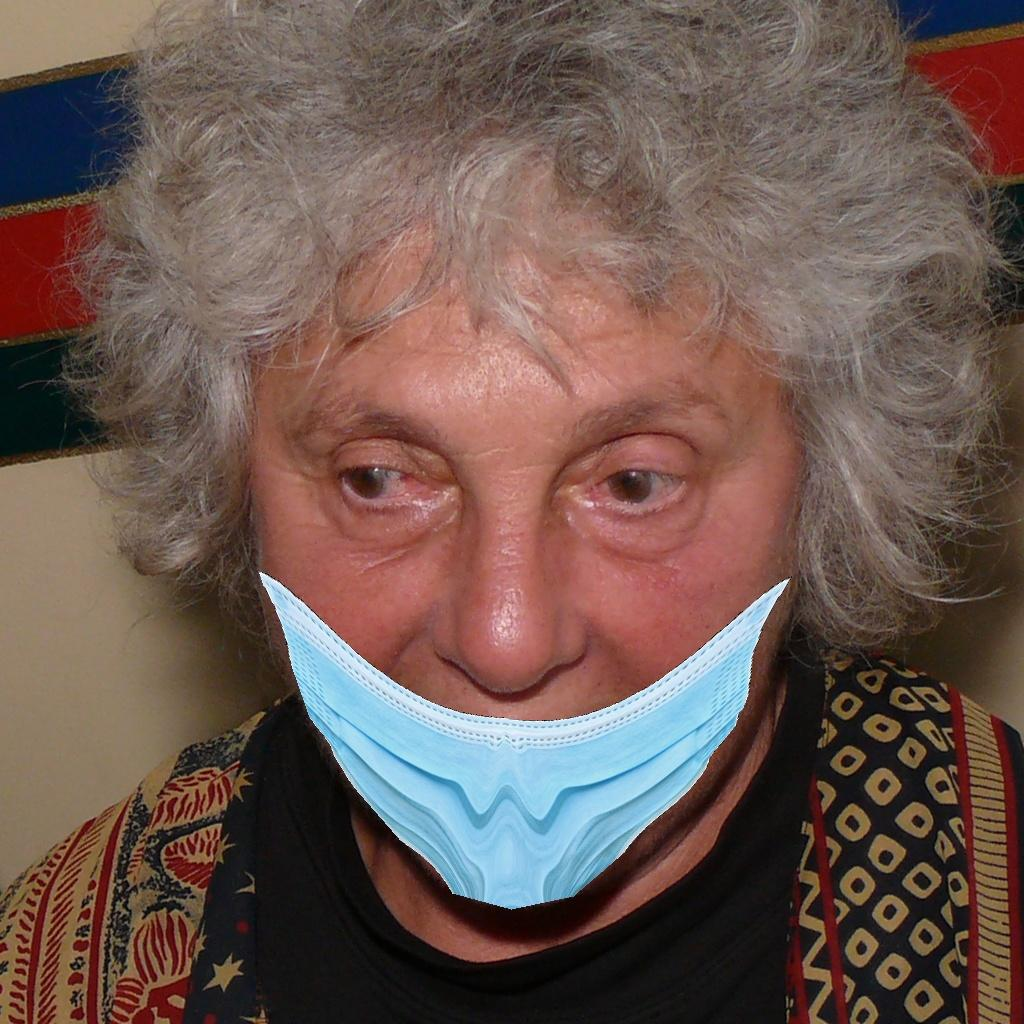Máscara Incorreta: (250, 298, 795, 905)
